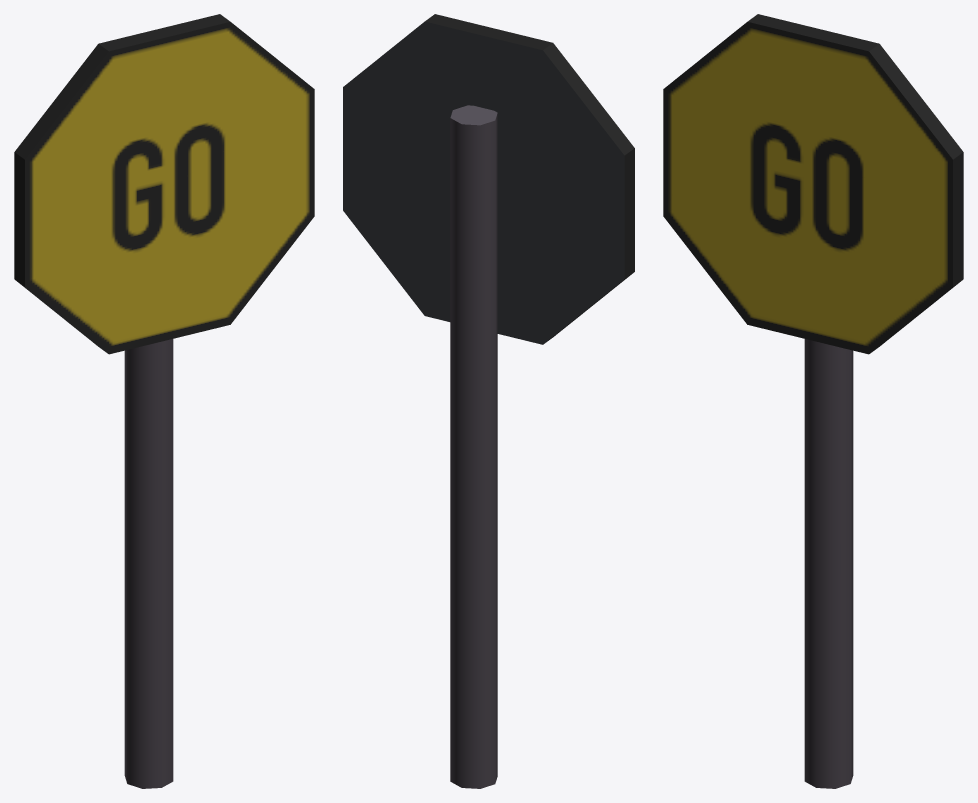
Rendered from Sign_Go.fbx.
3 renders of one model, left to right at view 1: azimuth 30°, elevation 25°; view 2: azimuth 150°, elevation 25°; view 3: azimuth 330°, elevation 25°, orthographic. The views are drawn at different scales.
Visible parts, largest first — view 1: Sign_Go; view 2: Sign_Go; view 3: Sign_Go.
Boxes of the visible parts, x1,y1,x2,y2 form: Sign_Go: [14, 14, 314, 788]; Sign_Go: [343, 14, 634, 788]; Sign_Go: [663, 14, 963, 788].
Bounding box in the file's own units: 116 × 289 × 23.02.
